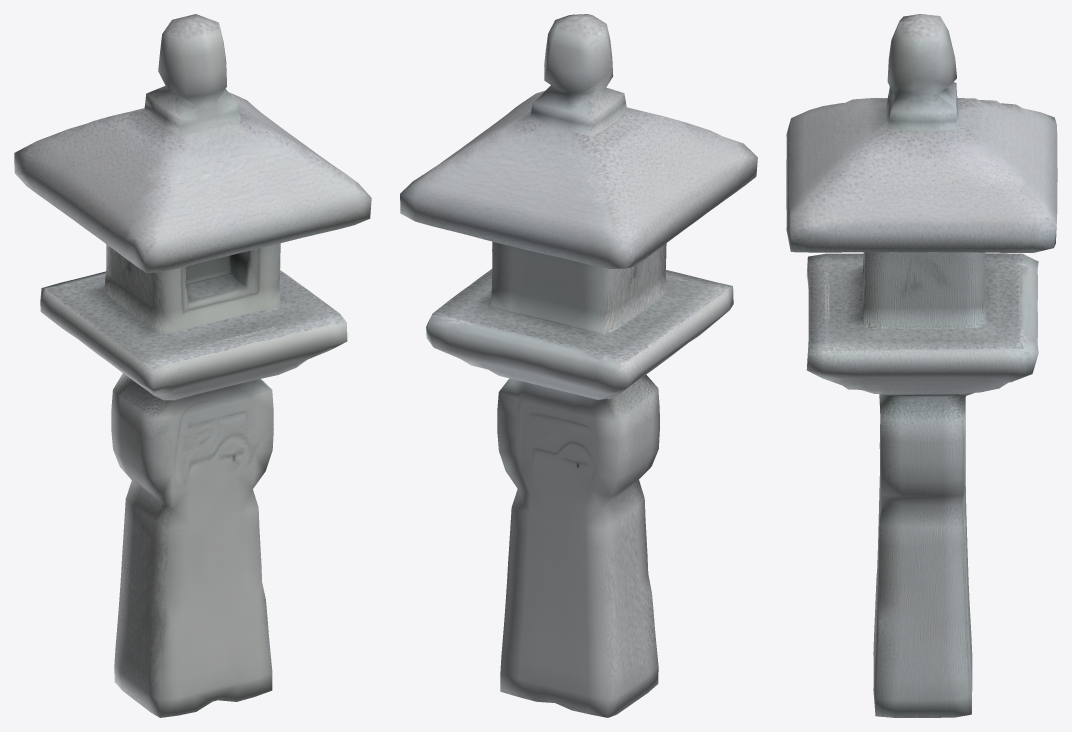
Rendered from oribe-stone-lantern.glb.
3 views of the same model, side by side, from view 1: azimuth 30°, elevation 25°; view 2: azimuth 150°, elevation 25°; view 3: azimuth 270°, elevation 25° (orthographic).
Parts seen in each view (by area): view 1: Mesh_0; view 2: Mesh_0; view 3: Mesh_0.
Part boxes in pixels (x1,y1,x2,y2): Mesh_0: (14, 14, 371, 717); Mesh_0: (400, 14, 757, 717); Mesh_0: (786, 14, 1057, 717).
Bounding box in the file's own units: 0.5297 × 1.5 × 0.5441.
1 material, 1 textured.
